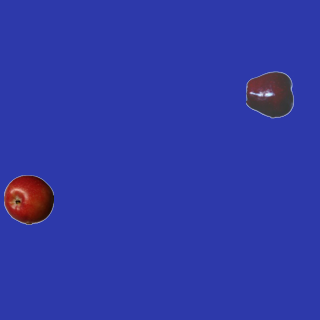Apple Braeburn: (3, 174, 53, 224)
Apple Red Delicious: (245, 69, 295, 119)
